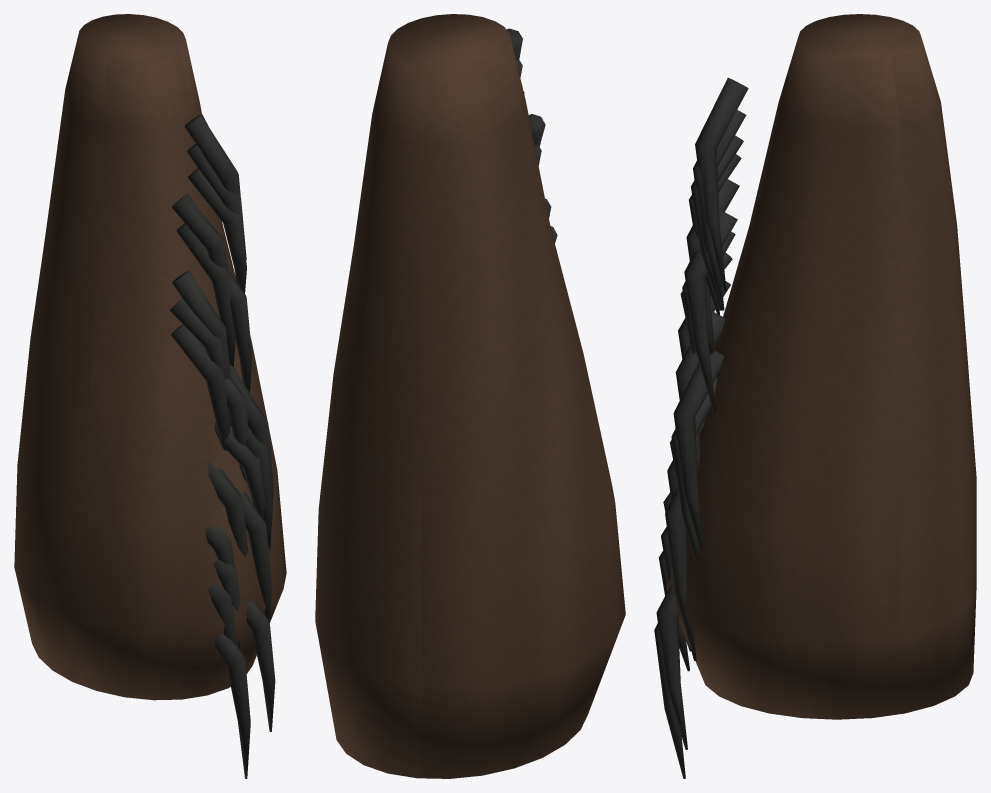
Rendered from neck_lod0.glb.
3 views of the same model, side by side, from view 1: azimuth 30°, elevation 25°; view 2: azimuth 150°, elevation 25°; view 3: azimuth 270°, elevation 25° (orthographic). The views are drawn at different scales.
Visible parts, largest first — view 1: agro_neck_LOD0; view 2: agro_neck_LOD0; view 3: agro_neck_LOD0.
Boxes of the visible parts, x1,y1,x2,y2 form: agro_neck_LOD0: (14,14,286,778); agro_neck_LOD0: (315,14,625,778); agro_neck_LOD0: (654,14,976,778).
Bounding box in the file's own units: 0.43 × 1.23 × 0.4964.
2 materials, 2 textured.
